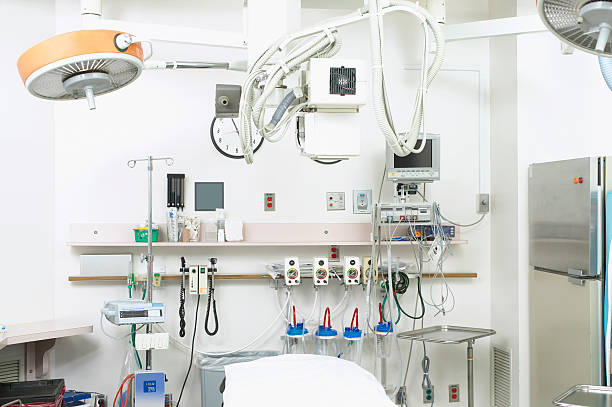bedside_monitor: (385, 132, 440, 181)
countertop: (71, 215, 458, 246)
iv_pole: (127, 155, 174, 302)
surgical_light: (13, 24, 155, 112), (531, 1, 611, 59)
utility_cart: (398, 324, 497, 407)
waste_bin: (194, 350, 279, 407)
